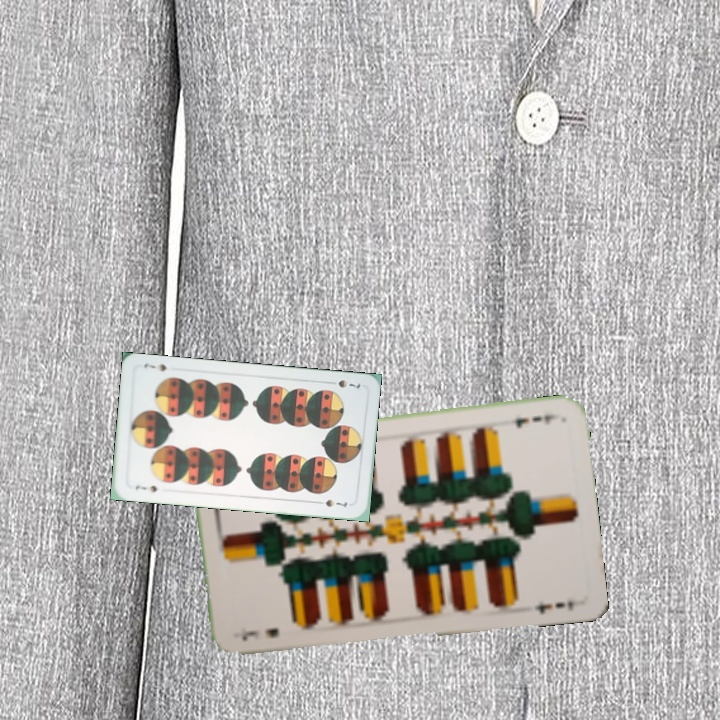E7: (510, 410, 561, 430), (237, 623, 281, 643)
S7: (324, 376, 363, 391), (131, 481, 162, 495)
